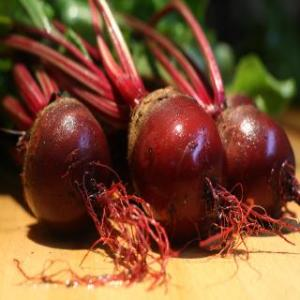beet: (126, 88, 224, 248), (21, 97, 110, 234), (216, 103, 296, 219)
